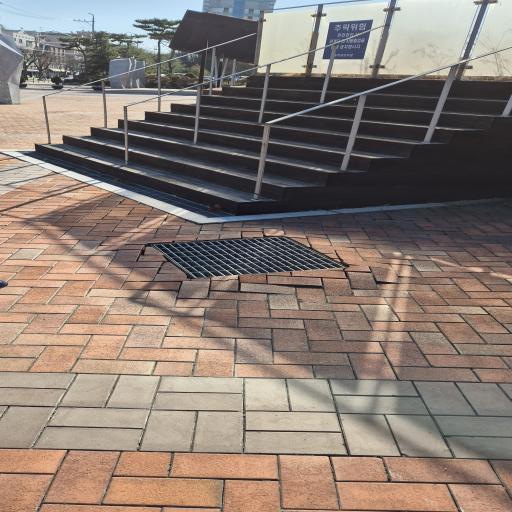drain: (152, 237, 348, 278)
